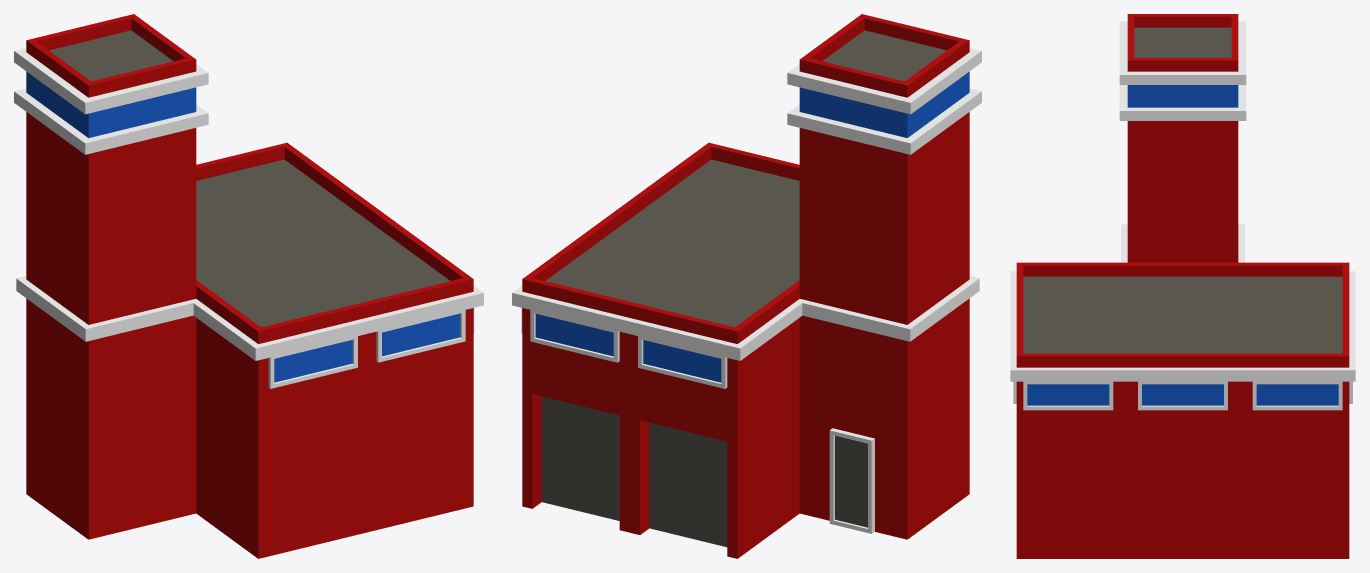
The model's file is CityBuildingFirestation.fbx.
3 renders of one model, left to right at view 1: azimuth 30°, elevation 25°; view 2: azimuth 150°, elevation 25°; view 3: azimuth 270°, elevation 25°, orthographic. The views are drawn at different scales.
Visible parts, largest first — view 1: CityBuildingFirestation; view 2: CityBuildingFirestation; view 3: CityBuildingFirestation.
Boxes of the visible parts, bbox=[...] form: CityBuildingFirestation: bbox=[14, 14, 483, 558]; CityBuildingFirestation: bbox=[512, 14, 981, 558]; CityBuildingFirestation: bbox=[1010, 14, 1355, 558].
Bounding box in the file's own units: 1.04 × 1.34 × 1.04.
